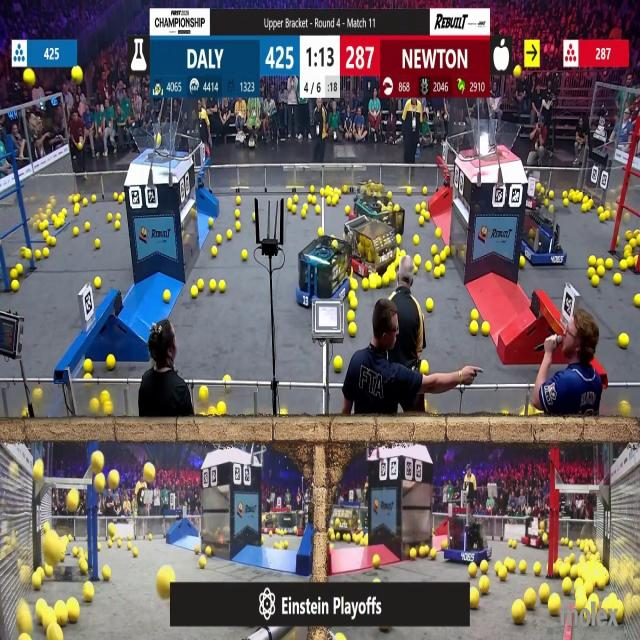ball_airborne: (68, 490, 79, 512), (94, 452, 105, 472), (34, 460, 44, 480), (144, 463, 155, 481), (96, 475, 107, 492), (108, 473, 119, 490), (25, 69, 36, 85), (72, 66, 82, 82), (515, 66, 522, 77), (155, 134, 161, 145)
ball_ground: (159, 568, 172, 595), (514, 603, 526, 626), (68, 602, 79, 624), (549, 596, 561, 616), (50, 626, 65, 640), (525, 590, 536, 608), (468, 590, 478, 609), (86, 584, 96, 602), (562, 580, 572, 596), (480, 579, 490, 595), (538, 587, 548, 603), (575, 595, 585, 611), (33, 573, 42, 589), (621, 403, 630, 418), (504, 559, 514, 572), (107, 354, 115, 370), (92, 398, 100, 414), (617, 606, 625, 622), (200, 386, 209, 400), (620, 335, 629, 349), (217, 404, 226, 417), (335, 356, 343, 370), (102, 566, 110, 580), (468, 563, 476, 577), (79, 560, 87, 574), (104, 404, 113, 416), (498, 568, 507, 580), (560, 565, 569, 577), (421, 361, 429, 374), (86, 359, 94, 372), (349, 322, 356, 336), (469, 322, 477, 334), (615, 274, 623, 286), (481, 561, 489, 573), (592, 276, 600, 287), (44, 566, 52, 577), (419, 548, 427, 559), (218, 280, 225, 292), (483, 322, 490, 334), (426, 300, 433, 312), (11, 280, 18, 292), (411, 549, 418, 561), (374, 556, 381, 568), (520, 562, 527, 574), (369, 278, 376, 290), (570, 566, 577, 578), (101, 392, 109, 402), (210, 280, 217, 291), (469, 310, 476, 321), (95, 278, 102, 289), (190, 286, 197, 297), (362, 279, 369, 290), (198, 280, 205, 291), (348, 311, 355, 322), (621, 261, 628, 272), (350, 300, 357, 311), (634, 294, 640, 306), (165, 289, 171, 301), (534, 562, 540, 574), (286, 200, 292, 212), (383, 274, 389, 286), (445, 247, 453, 256), (377, 276, 383, 288), (10, 270, 17, 280), (25, 249, 32, 259), (351, 280, 358, 290), (605, 258, 612, 268), (48, 237, 55, 247), (589, 268, 596, 278), (429, 550, 436, 560), (553, 564, 560, 574), (201, 557, 207, 568), (520, 256, 526, 267), (598, 267, 604, 278), (348, 290, 356, 298), (596, 207, 604, 215), (597, 257, 604, 266), (361, 536, 368, 545), (415, 255, 421, 265), (242, 250, 248, 260), (36, 250, 42, 260), (43, 248, 49, 258), (433, 254, 439, 264), (590, 256, 596, 266), (414, 236, 420, 246), (441, 266, 447, 276), (421, 202, 428, 210), (396, 235, 401, 246), (95, 240, 101, 249), (426, 263, 432, 272), (419, 216, 425, 225), (206, 546, 212, 555), (114, 220, 120, 229), (216, 236, 222, 245), (73, 226, 79, 235), (441, 253, 447, 262), (390, 272, 396, 281), (23, 411, 29, 420), (299, 209, 305, 218), (84, 370, 90, 379), (527, 408, 533, 417), (583, 204, 589, 213), (535, 183, 541, 192), (212, 246, 217, 256), (431, 245, 436, 255), (434, 269, 439, 279), (118, 192, 123, 202), (73, 548, 78, 558), (226, 232, 232, 240), (435, 230, 441, 238), (84, 222, 90, 230), (331, 198, 337, 206), (318, 229, 324, 237), (562, 190, 568, 198), (413, 266, 419, 274), (496, 560, 502, 568), (443, 540, 449, 548), (19, 634, 27, 640), (316, 206, 321, 215), (74, 206, 79, 215), (237, 197, 242, 206), (291, 206, 296, 215), (416, 205, 421, 214), (16, 266, 21, 275), (307, 196, 312, 205), (600, 213, 605, 222), (570, 554, 575, 563), (422, 187, 428, 194), (280, 411, 286, 418), (237, 222, 242, 230), (194, 544, 199, 552), (236, 210, 241, 218), (108, 214, 113, 222), (134, 549, 138, 559), (564, 200, 569, 208), (93, 194, 98, 202), (43, 232, 48, 240), (408, 187, 413, 195), (424, 212, 429, 220), (395, 257, 400, 265), (344, 185, 349, 193), (346, 206, 350, 215), (223, 376, 229, 382), (374, 576, 380, 582), (305, 204, 310, 211), (82, 200, 87, 207), (507, 539, 512, 546), (320, 188, 325, 195), (311, 185, 316, 192), (209, 218, 213, 226), (98, 542, 102, 550), (118, 214, 122, 222), (400, 249, 404, 257), (114, 191, 118, 199), (284, 540, 288, 548), (551, 193, 555, 201), (313, 197, 317, 205), (252, 213, 256, 221), (275, 542, 280, 548), (148, 537, 152, 544), (293, 197, 297, 204), (108, 540, 112, 547), (514, 540, 518, 547), (544, 200, 548, 207), (129, 541, 133, 548), (64, 209, 68, 216), (129, 534, 133, 540)
goal: (466, 123, 522, 161), (130, 130, 189, 161)
robot_blue: (296, 237, 351, 306), (518, 213, 565, 268), (443, 515, 490, 564), (332, 506, 361, 540)
robot_red: (347, 224, 396, 276), (523, 518, 550, 548), (263, 513, 281, 534)
